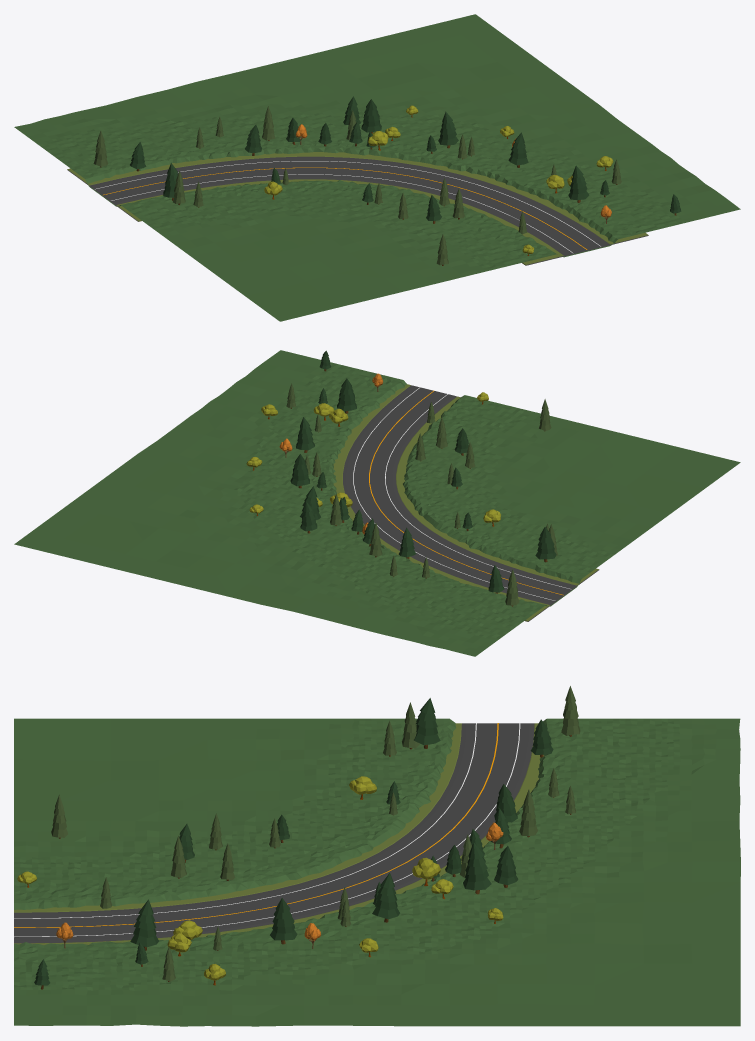
The model's file is ForestRoadRight3.fbx.
The picture shows the model from 3 angles, top to bottom: view 1: azimuth 30°, elevation 25°; view 2: azimuth 150°, elevation 25°; view 3: azimuth 270°, elevation 25°; orthographic projection. The views are drawn at different scales.
Parts seen in each view (by area): view 1: FRR3Plane, FRR3Road; view 2: FRR3Plane, FRR3Road; view 3: FRR3Plane, FRR3Road, FRR3Plane|pineTree04|Dupli|26, FRR3Plane|pineTree04|Dupli|11, FRR3Plane|pineTree04|Dupli|44, FRR3Plane|pineTree04|Dupli|27, FRR3Plane|pineTree04|Dupli|29, FRR3Plane|pineTree04|Dupli|28, FRR3Plane|pineTree05|Dupli|21, FRR3Plane|pineTree05|Dupli|7.
Part boxes in pixels (x1,y1,x2,y2): FRR3Plane: [14, 14, 740, 321]; FRR3Road: [67, 152, 648, 265]; FRR3Plane: [14, 350, 740, 656]; FRR3Road: [333, 384, 599, 621]; FRR3Plane: [14, 718, 740, 1026]; FRR3Road: [14, 723, 544, 944]; FRR3Plane|pineTree04|Dupli|26: [463, 842, 491, 894]; FRR3Plane|pineTree04|Dupli|11: [130, 899, 158, 950]; FRR3Plane|pineTree04|Dupli|44: [414, 698, 440, 748]; FRR3Plane|pineTree04|Dupli|27: [372, 873, 399, 922]; FRR3Plane|pineTree04|Dupli|29: [270, 898, 297, 944]; FRR3Plane|pineTree04|Dupli|28: [494, 846, 518, 887]; FRR3Plane|pineTree05|Dupli|21: [561, 686, 580, 736]; FRR3Plane|pineTree05|Dupli|7: [519, 789, 537, 837].
Size of what is drawn, in the model's own units: 30058 by 2591 by 30029.
